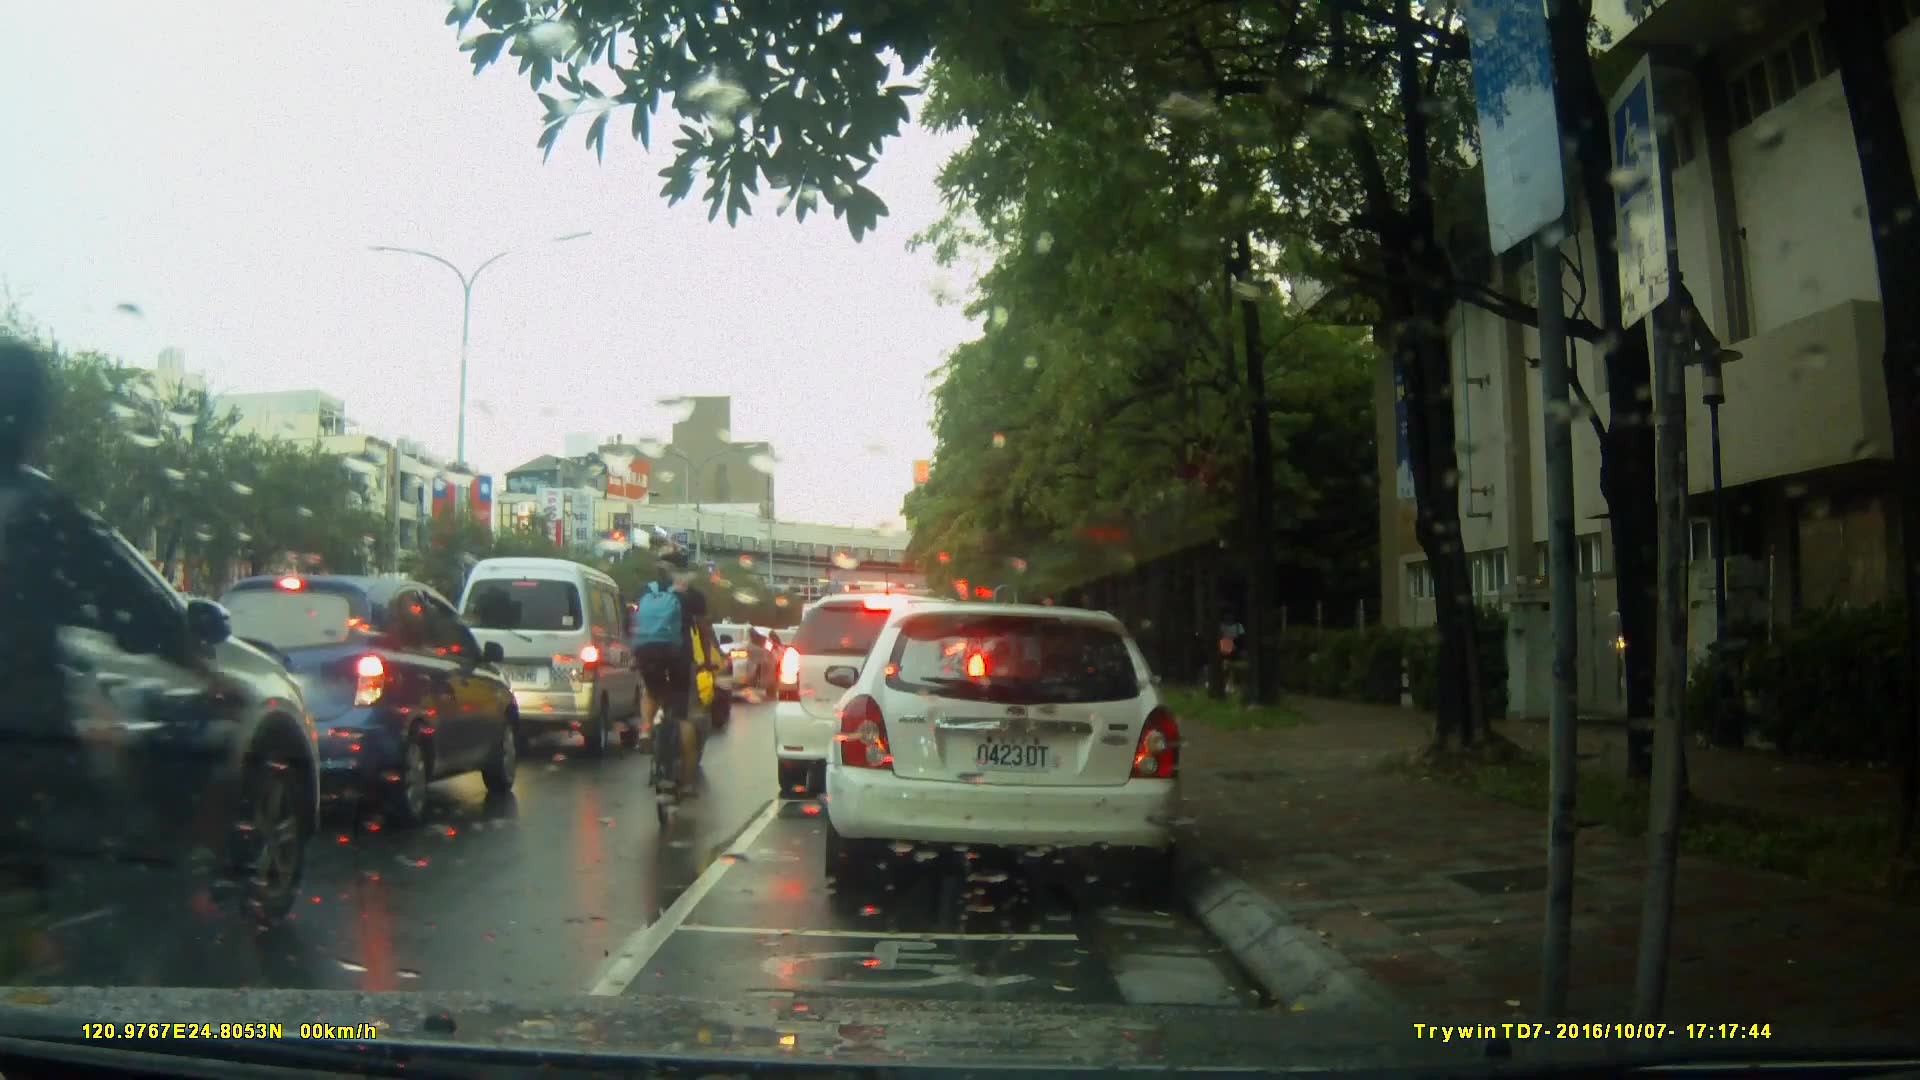rider: (1, 340, 290, 1075), (643, 546, 714, 834), (638, 593, 717, 776)
vehicle: (1, 444, 327, 987), (815, 593, 1204, 909), (178, 573, 529, 831), (770, 591, 993, 801), (444, 557, 649, 764), (599, 599, 741, 718)
